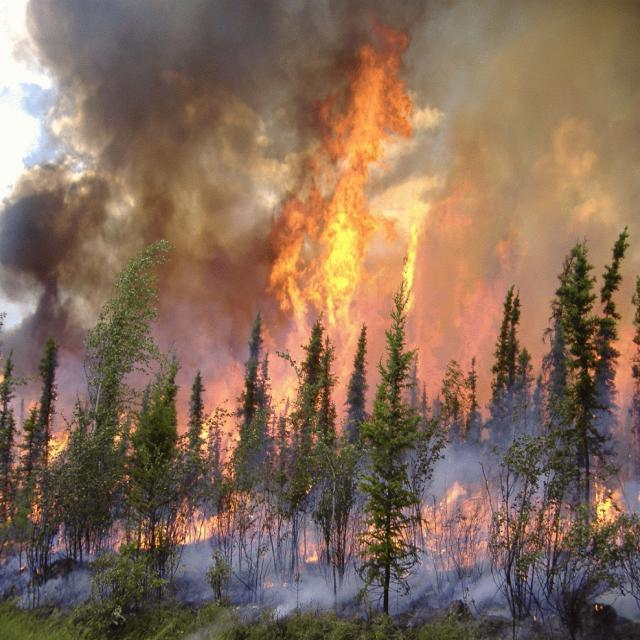Fire: (260, 21, 420, 348), (411, 494, 494, 560), (504, 496, 574, 553), (198, 388, 252, 456), (142, 517, 225, 545), (272, 373, 302, 428), (46, 422, 88, 457), (598, 477, 622, 533), (104, 416, 128, 453), (22, 400, 44, 424), (30, 482, 41, 530), (304, 540, 324, 564)
Smoke: (0, 0, 640, 407), (287, 409, 640, 535), (8, 540, 640, 602)
